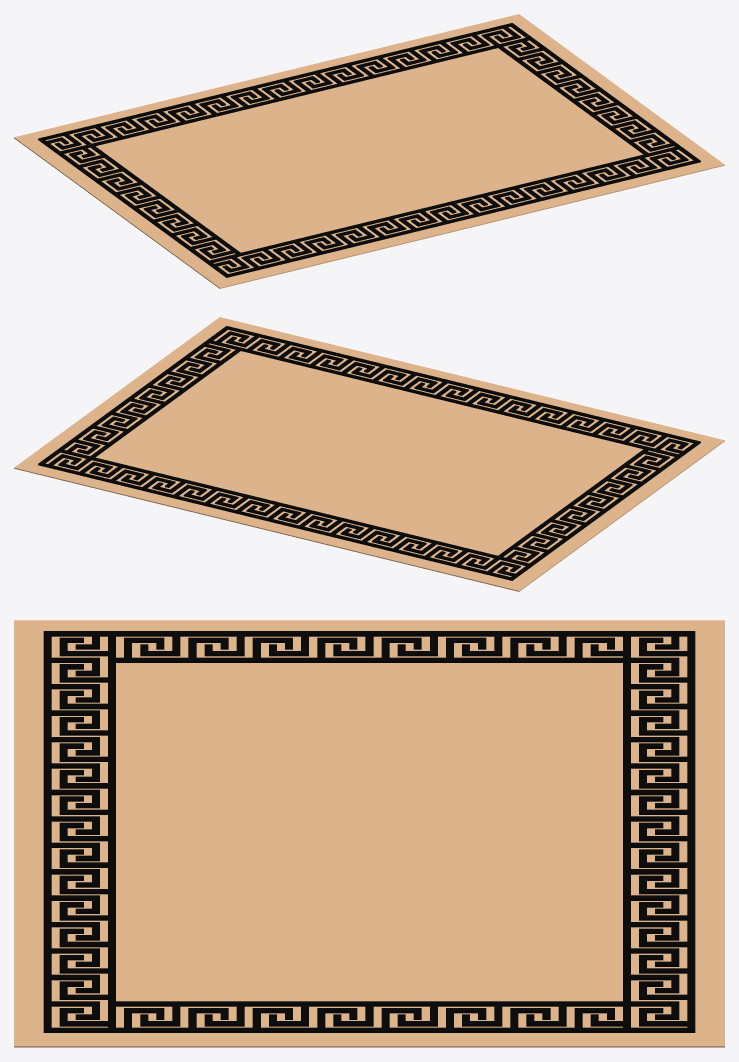
File: Alfombra.FBX
The picture shows the model from 3 angles, top to bottom: view 1: azimuth 30°, elevation 25°; view 2: azimuth 150°, elevation 25°; view 3: azimuth 270°, elevation 25°; orthographic projection. The views are drawn at different scales.
Parts seen in each view (by area): view 1: piece_1_creme_1_1, piece_2_meandros_1_15; view 2: piece_1_creme_1_1, piece_2_meandros_1_15; view 3: piece_1_creme_1_1, piece_2_meandros_1_15.
Boxes of the visible parts, x1,y1,x2,y2 form: piece_1_creme_1_1: (14, 14, 724, 288); piece_2_meandros_1_15: (38, 23, 700, 277); piece_1_creme_1_1: (14, 317, 724, 591); piece_2_meandros_1_15: (38, 326, 700, 580); piece_1_creme_1_1: (14, 620, 724, 1047); piece_2_meandros_1_15: (43, 631, 695, 1032).
Size of the model in its own units: 170 by 0.7 by 120.
